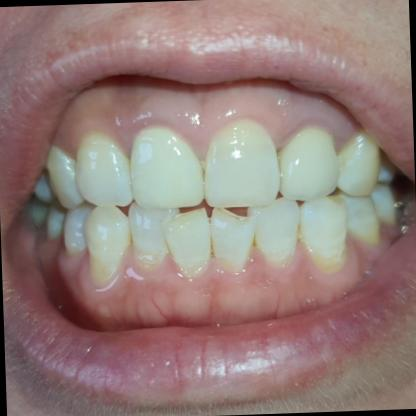Crowding: (161, 205, 262, 279)
Healthy: (278, 141, 380, 250), (39, 152, 139, 255)
